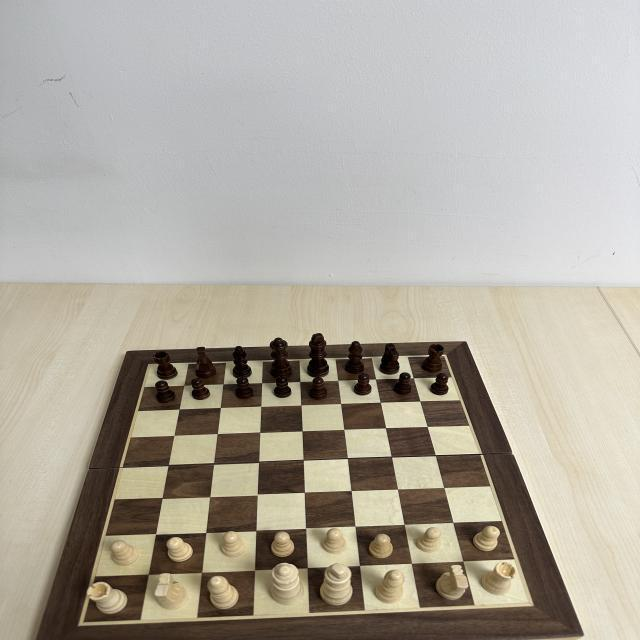chess-table-corners: (70, 614, 90, 632), (518, 594, 536, 612), (144, 360, 154, 368), (444, 350, 449, 360)
